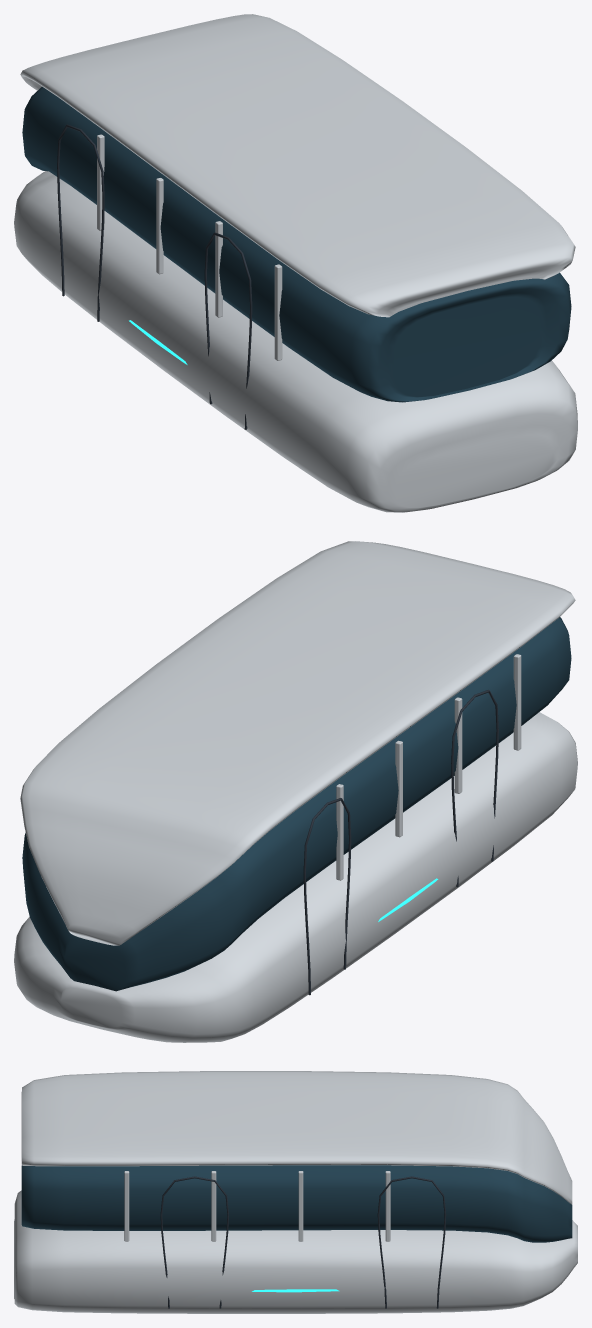
File: hover_bus.gltf
The picture shows the model from 3 angles, top to bottom: view 1: azimuth 30°, elevation 25°; view 2: azimuth 150°, elevation 25°; view 3: azimuth 270°, elevation 25°; orthographic projection. The views are drawn at different scales.
Parts seen in each view (by area): view 1: hover_bus; view 2: hover_bus; view 3: hover_bus.
Boxes of the visible parts, left/top/right/bottom form: hover_bus: left=14, top=14, right=577, bottom=512; hover_bus: left=14, top=541, right=577, bottom=1042; hover_bus: left=14, top=1071, right=577, bottom=1313.
Bounding box in the file's own units: 2.6 × 2.31 × 6.8.
